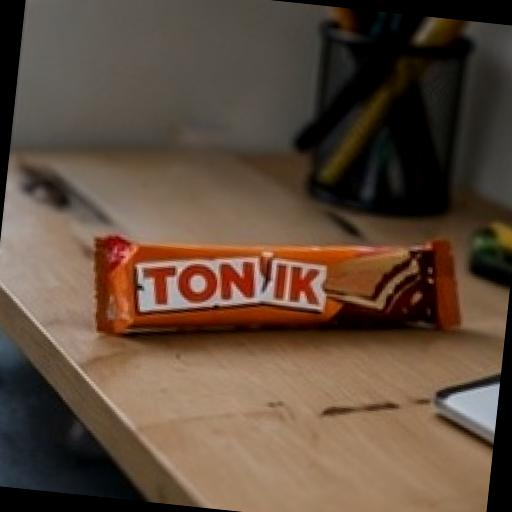tonik: (28, 154, 510, 450)
